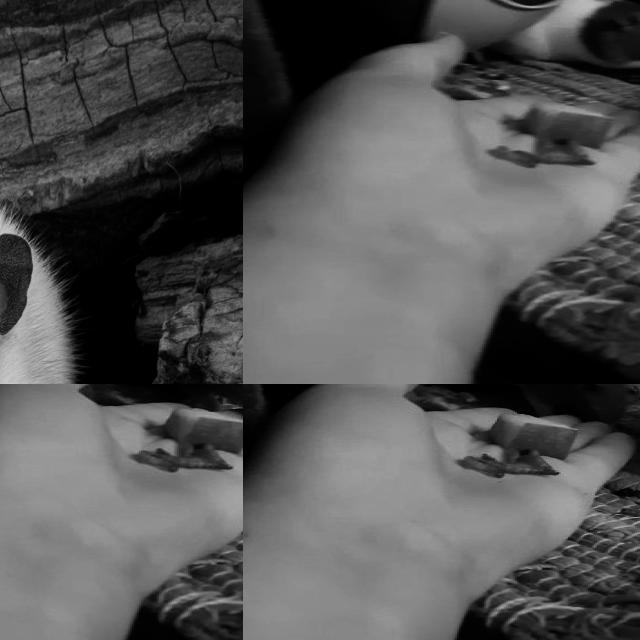rat: (505, 0, 640, 77), (465, 384, 640, 427), (145, 384, 243, 413)
